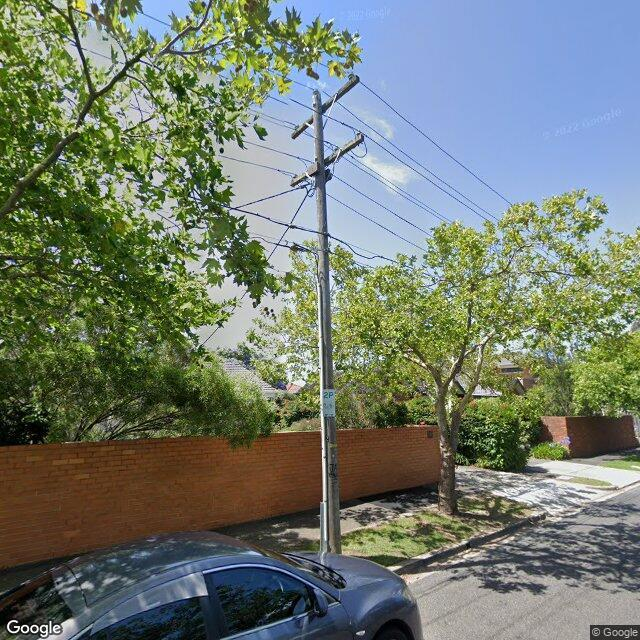HV-transmission: (290, 73, 360, 140)
crossarm: (276, 130, 368, 188), (290, 75, 360, 139)
timber-pole: (312, 95, 342, 554)
